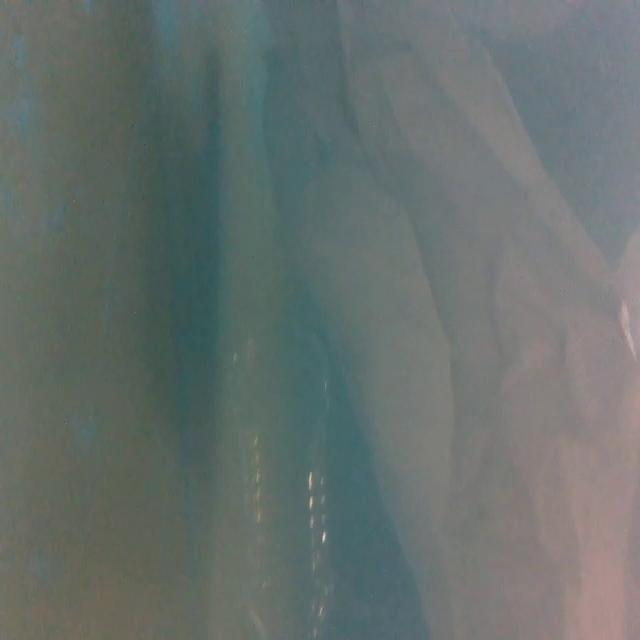plastic bags: (258, 6, 640, 640)
